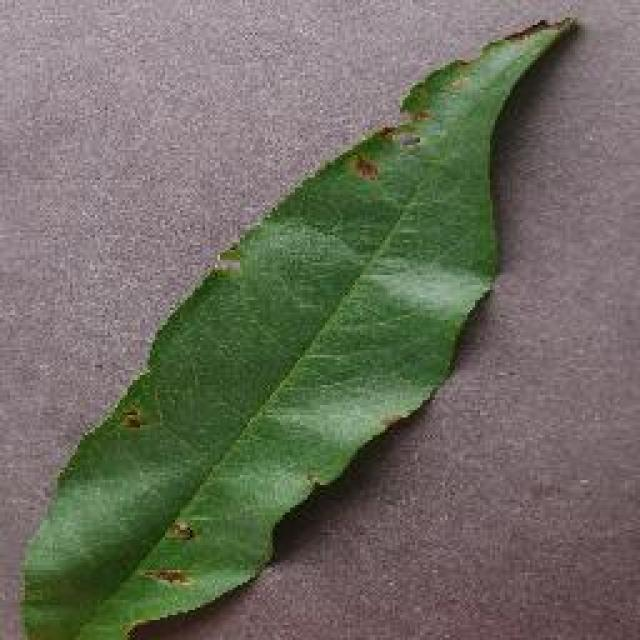Bacterial_spot: (143, 561, 207, 596), (172, 516, 230, 554), (118, 400, 169, 443), (348, 152, 395, 192), (392, 121, 437, 161)
